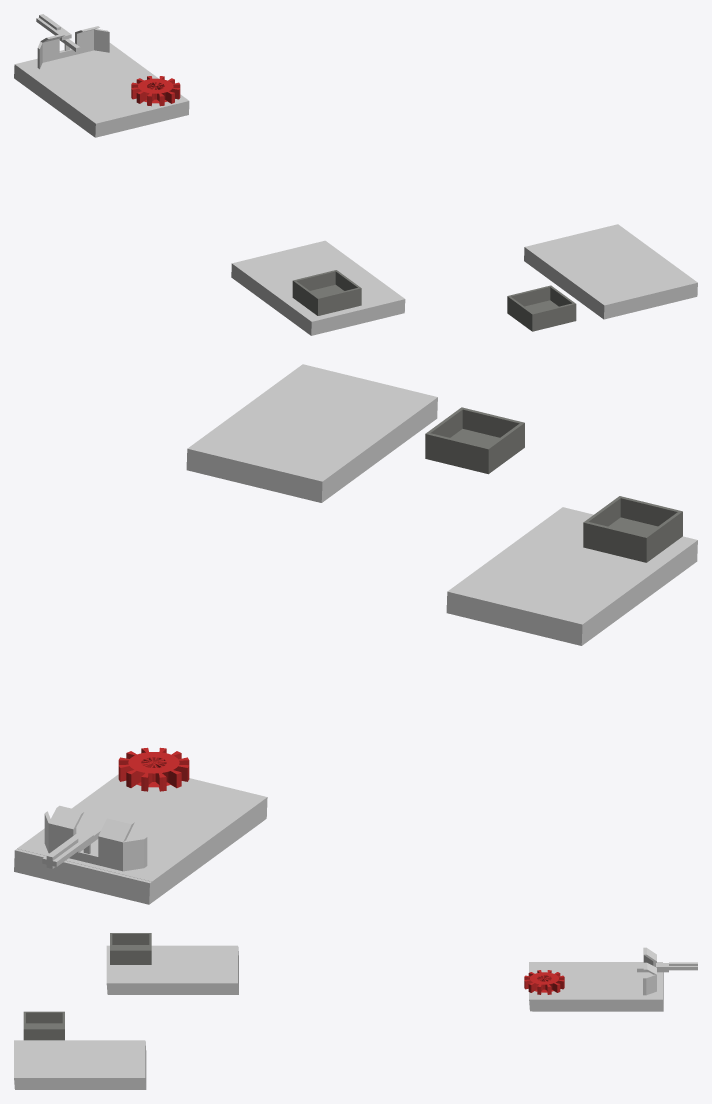
Rendered from Weapon1.fbx.
3 views of the same model, one above another, from view 1: azimuth 30°, elevation 25°; view 2: azimuth 150°, elevation 25°; view 3: azimuth 270°, elevation 25° (orthographic). The views are drawn at different scales.
Visible parts, largest first — view 1: Engine1Base, Engine1, Engine1Base.001, Container1, Container1.001, Cube, Assembler1, Engine1Base.002; view 2: Engine1Base, Engine1Base.001, Engine1, Container1.001, Container1, Engine1Base.002, Cube, Assembler1; view 3: Engine1Base, Engine1Base.001, Engine1, Engine1Base.002, Container1.001, Container1, Cube, Assembler1.
Boxes of the visible parts, bbox=[...] form: Engine1Base: bbox=[524, 224, 697, 319]; Engine1: bbox=[15, 43, 189, 137]; Engine1Base.001: bbox=[231, 240, 405, 335]; Container1: bbox=[507, 285, 576, 331]; Container1.001: bbox=[292, 270, 361, 315]; Cube: bbox=[36, 14, 109, 69]; Assembler1: bbox=[131, 76, 180, 106]; Engine1Base.002: bbox=[14, 58, 94, 132]; Engine1Base: bbox=[186, 364, 437, 502]; Engine1Base.001: bbox=[446, 507, 697, 645]; Engine1: bbox=[17, 774, 267, 902]; Container1.001: bbox=[583, 496, 682, 562]; Container1: bbox=[425, 407, 524, 474]; Engine1Base.002: bbox=[14, 799, 265, 904]; Cube: bbox=[42, 805, 147, 871]; Assembler1: bbox=[118, 747, 189, 791]; Engine1Base: bbox=[14, 1040, 146, 1089]; Engine1Base.001: bbox=[106, 945, 238, 994]; Engine1: bbox=[529, 962, 661, 1011]; Engine1Base.002: bbox=[531, 962, 663, 1011]; Container1.001: bbox=[110, 933, 151, 964]; Container1: bbox=[23, 1011, 64, 1040]; Cube: bbox=[637, 947, 697, 995]; Assembler1: bbox=[524, 970, 564, 994].
Size of the model in its own units: 215 by 26.59 by 469.
